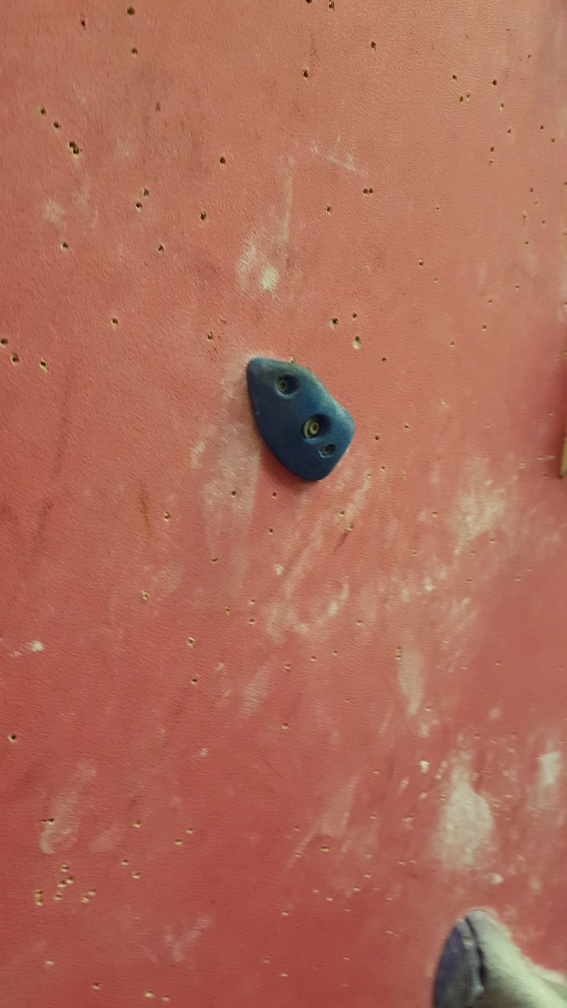Crimp: (241, 355, 360, 487)
